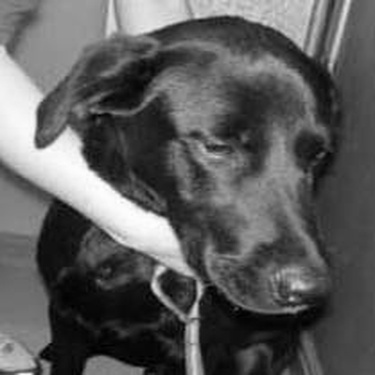dog: (26, 13, 347, 370)
